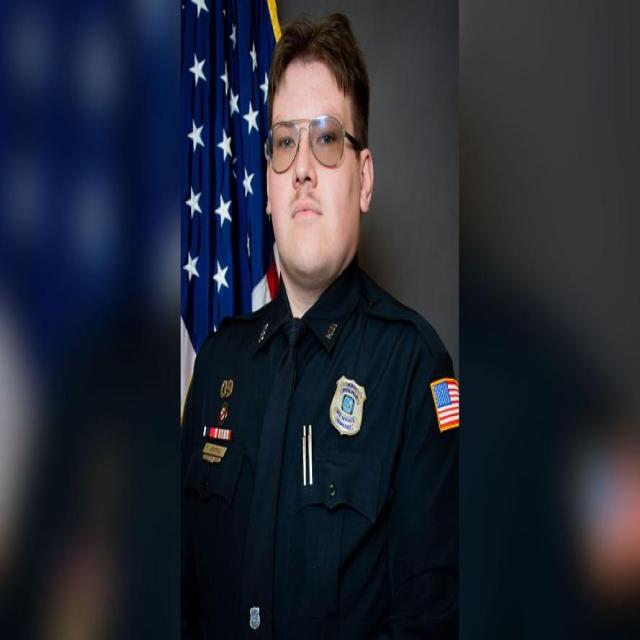police: (182, 0, 460, 640)
